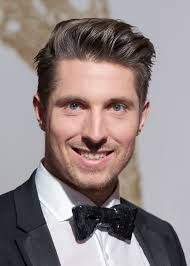no-mask: (25, 50, 151, 194)
